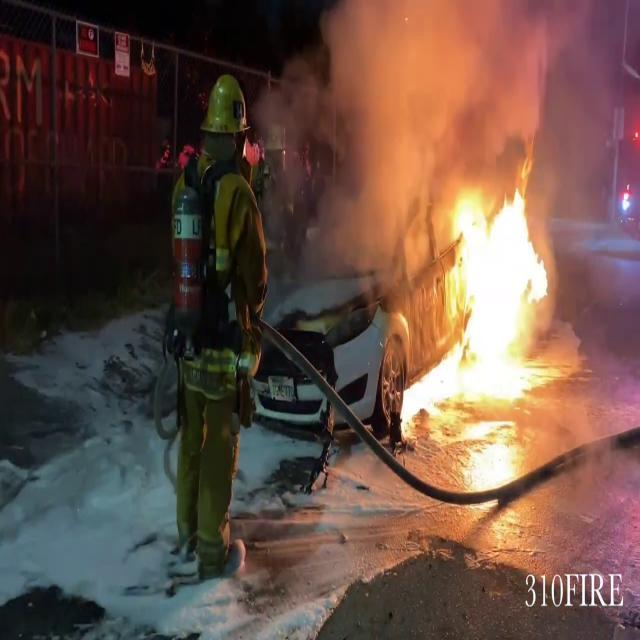Fire: (398, 162, 570, 415)
Smoke: (264, 1, 576, 240)
